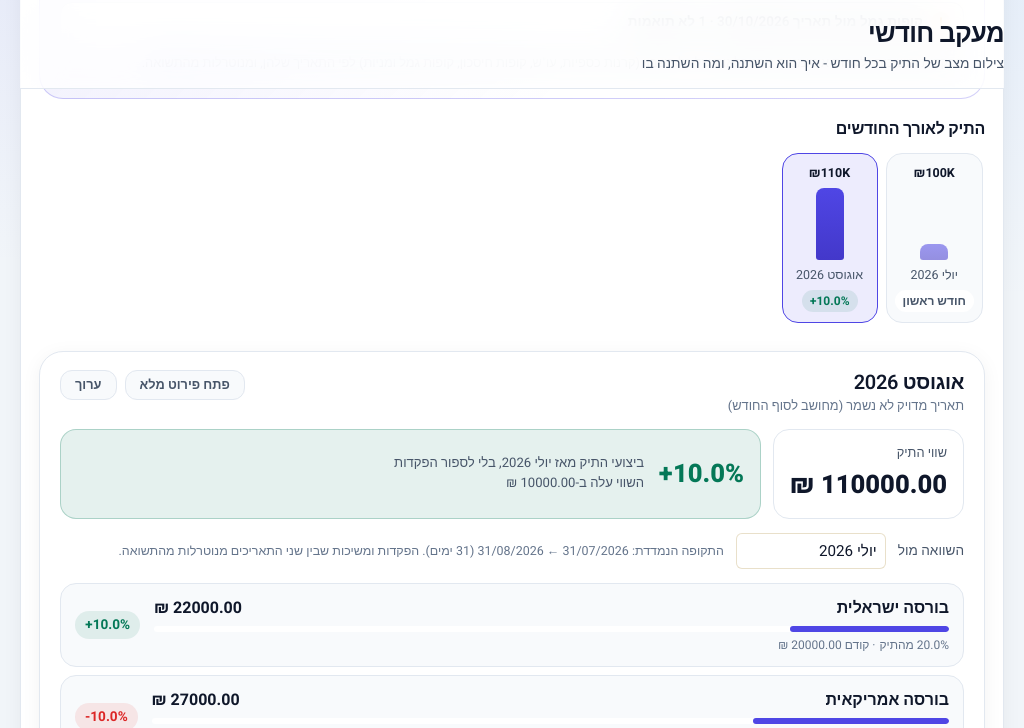
Test case: MonthlyTrackerView › editing a month can ADD a row to any category, and the new row is included in the saved breakdown/total
(page scrolled)
Click the button "ערוך". click: [88, 385]
box: [60,370,116,400]
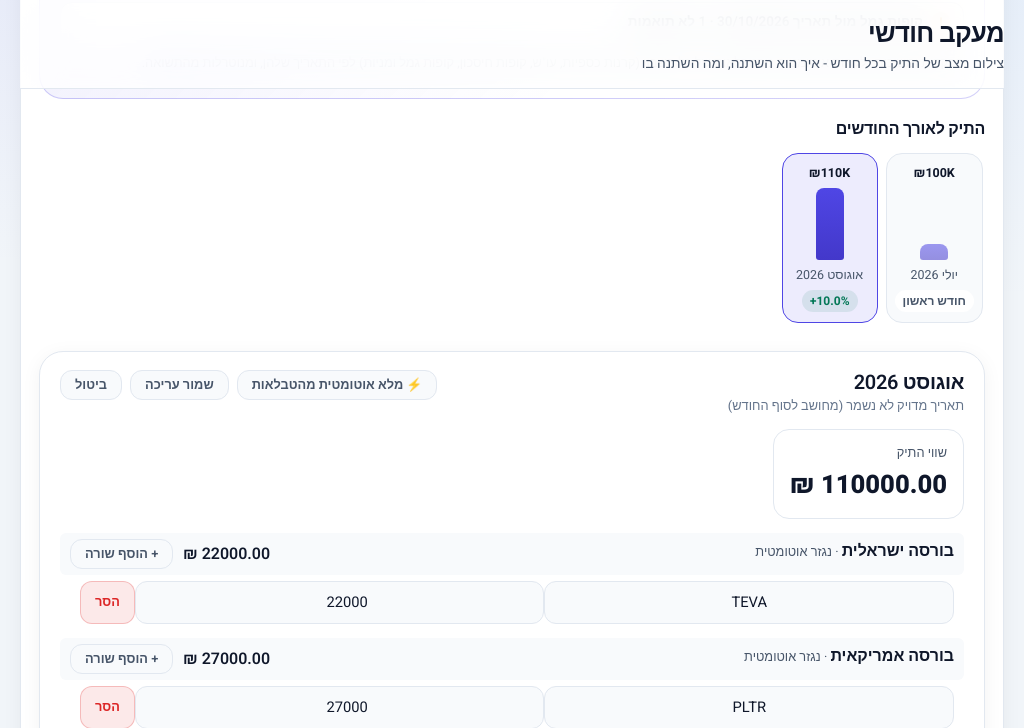
Expected: the number of buttons "+ הוסף שורה" is 6
# The Israeli category is the first one. A new row starts blank.
Click the button "+ הוסף שורה" next to "22000.00 ₪". click: [122, 554]
box: [70,539,173,569]
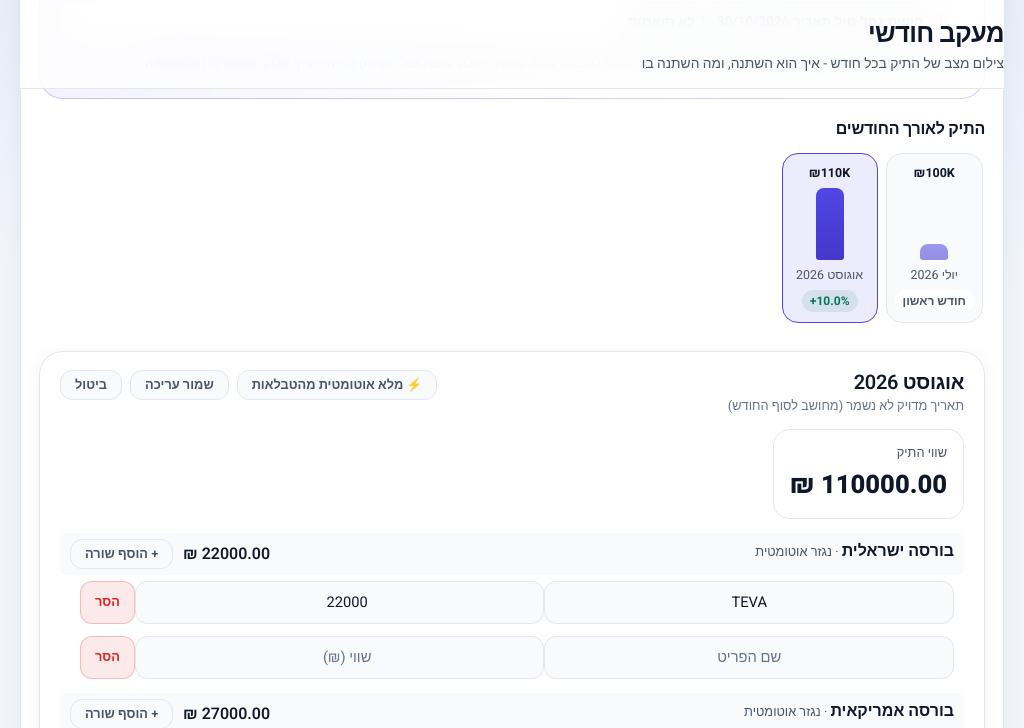
Type "ICL" into the field with placeholder "שם הפריט". click: [749, 658]
box: [544,636,954,679]
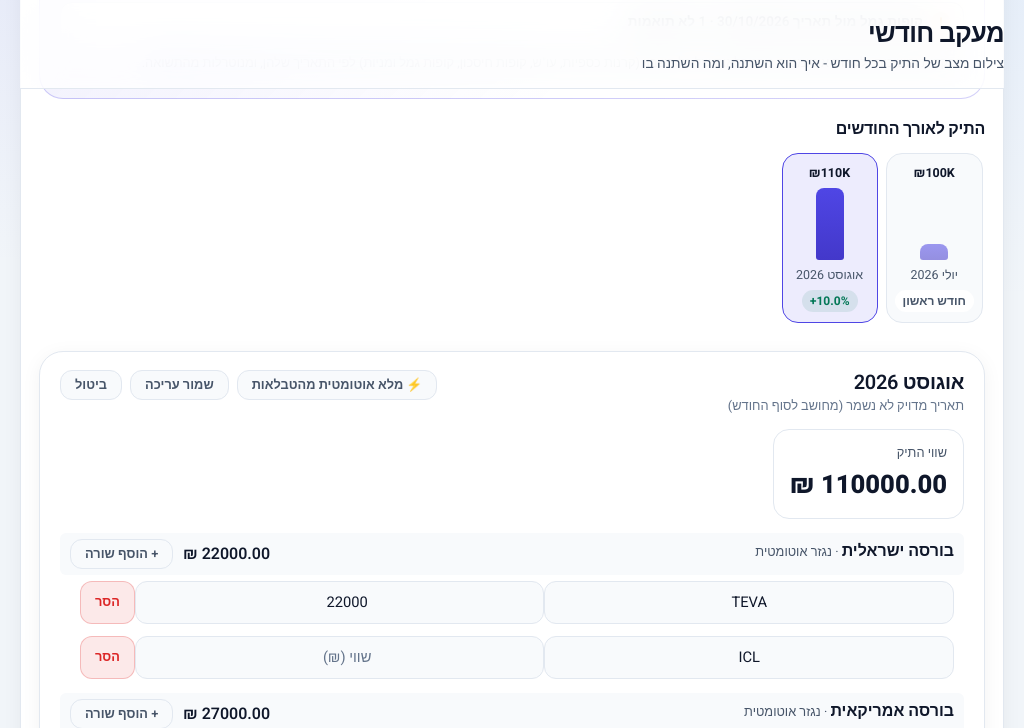
Type "3000" into the number field with placeholder "שווי (₪)". click: [340, 658]
box: [135,636,544,679]
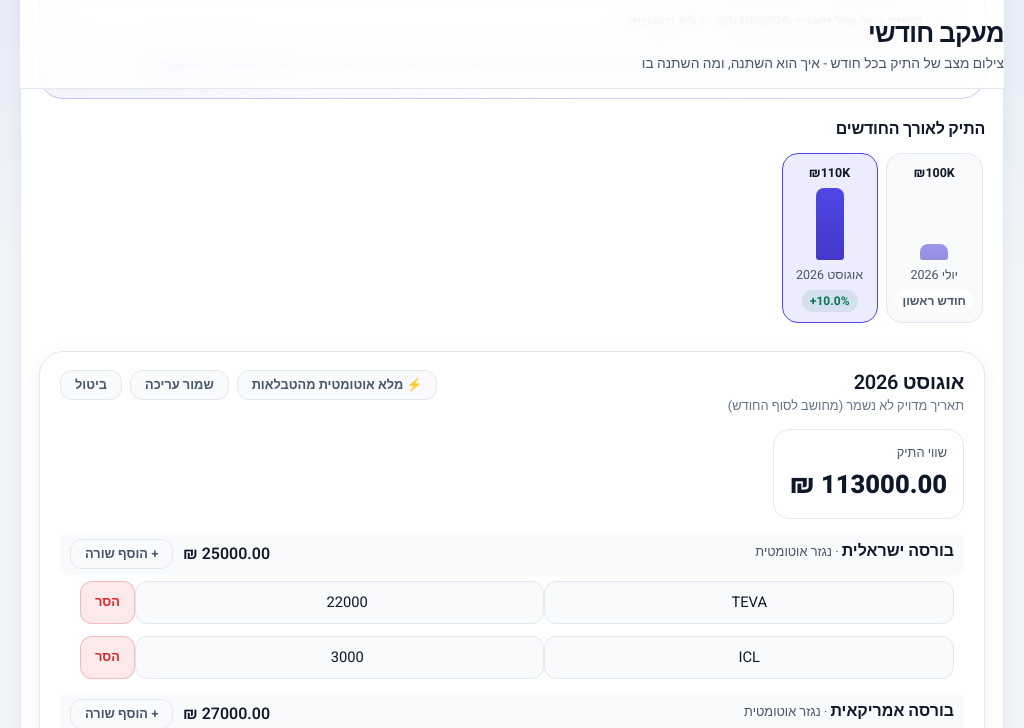
Click the button "שמור עריכה". click: [179, 385]
box: [130,370,229,400]
(page scrolled)
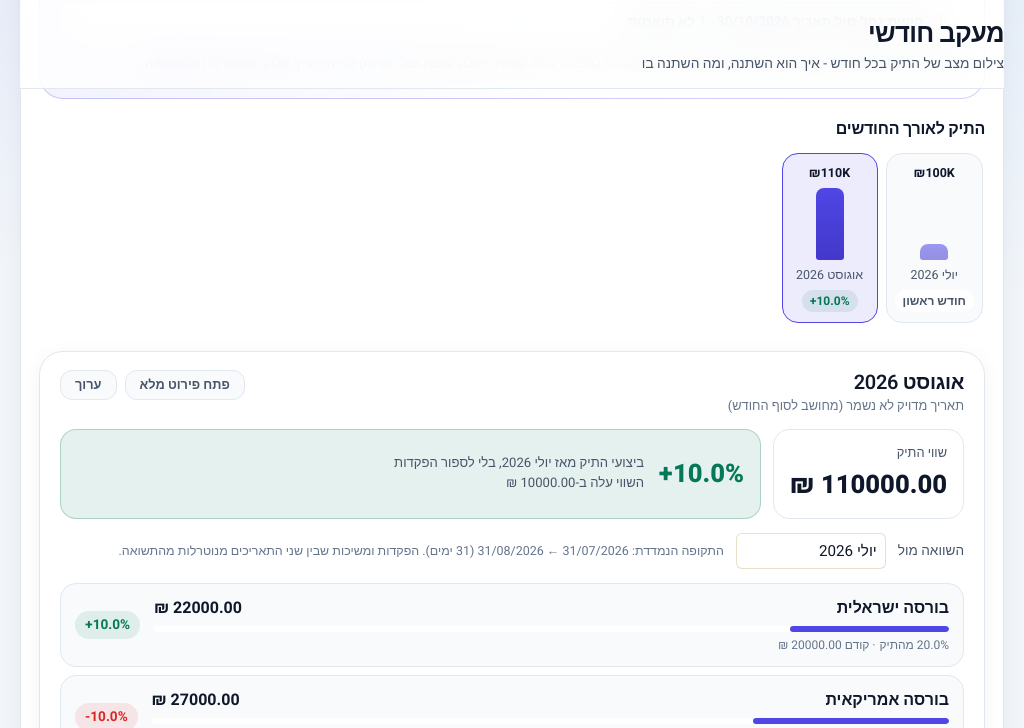
Expected: the button "שמור עריכה" is gone
